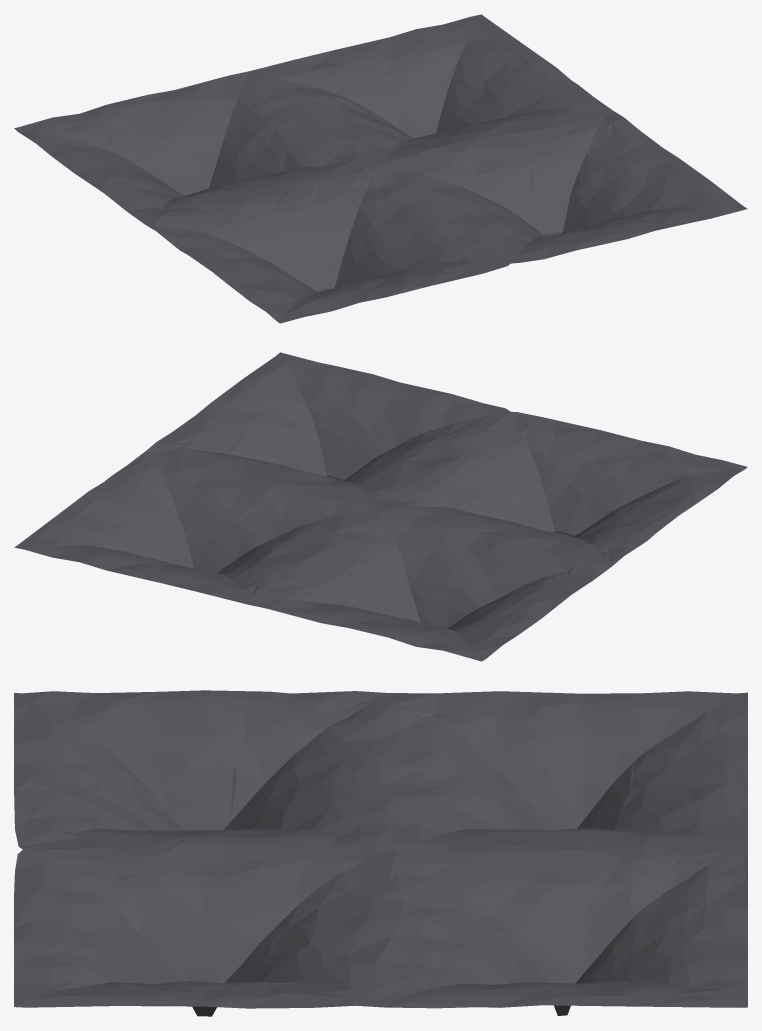
The model's file is Toit.FBX.
3 views of the same model, one above another, from view 1: azimuth 30°, elevation 25°; view 2: azimuth 150°, elevation 25°; view 3: azimuth 270°, elevation 25° (orthographic). The views are drawn at different scales.
Parts seen in each view (by area): view 1: toit; view 2: toit; view 3: toit.
Part boxes in pixels (<box>): toit: <box>14,14,747,323</box>; toit: <box>14,352,747,661</box>; toit: <box>14,690,747,1016</box>.
Size of the model in its own units: 1680 by 225 by 1656.
1 material, 1 textured.
